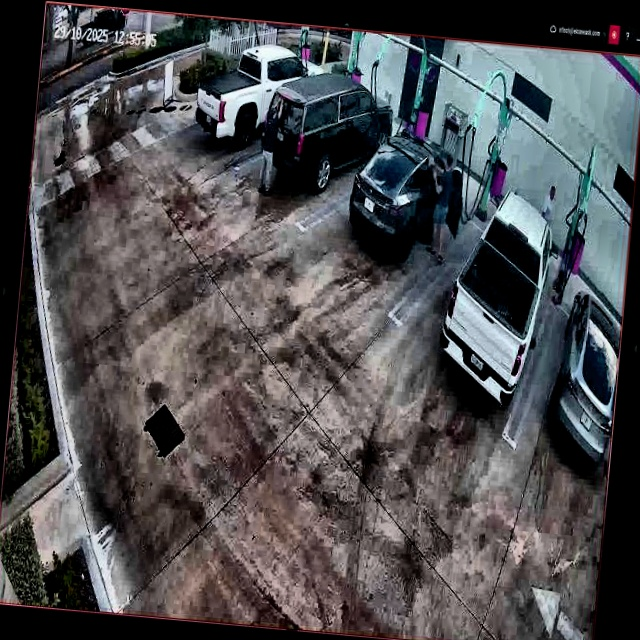Car: (437, 186, 563, 409), (260, 73, 397, 195), (346, 130, 469, 264)
